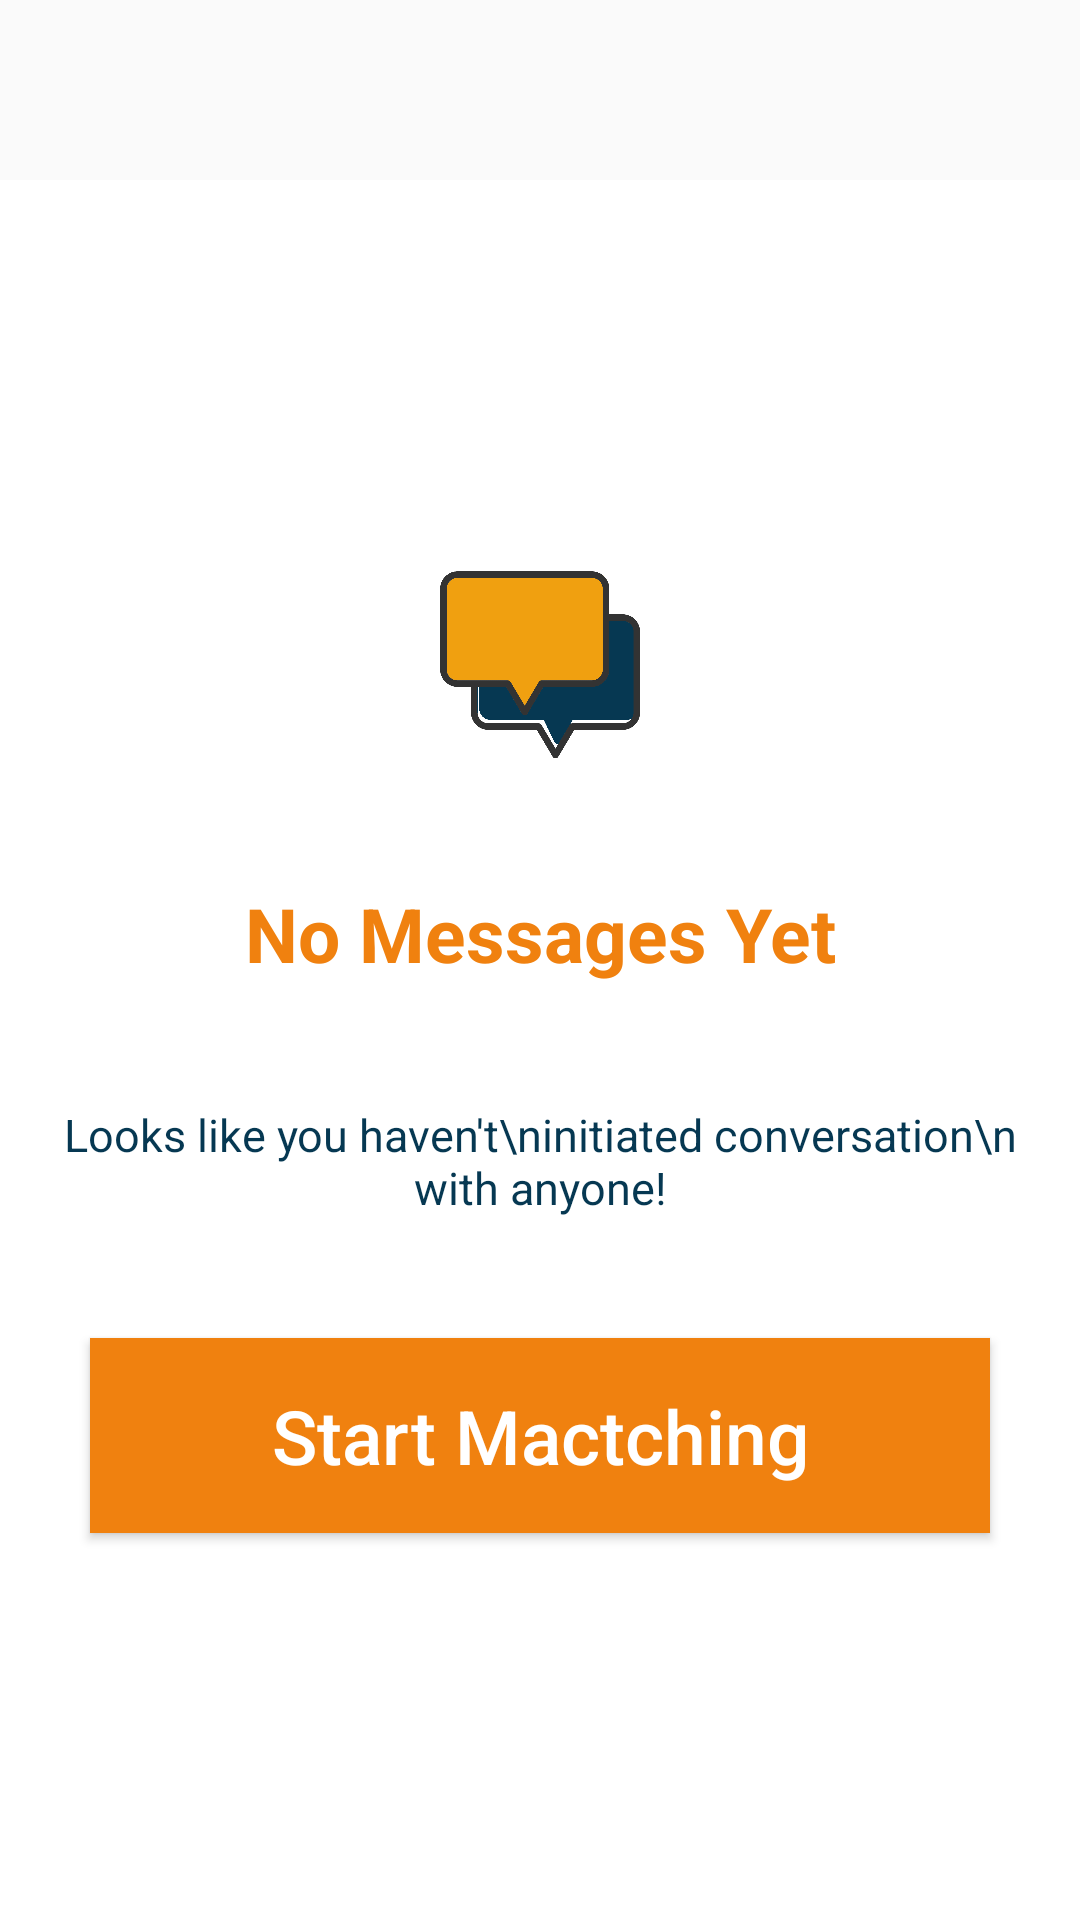

Icon click points for this 1080px×1920px phone screenshot, format (x=x, y=y):
no chat: (x=540, y=664)
